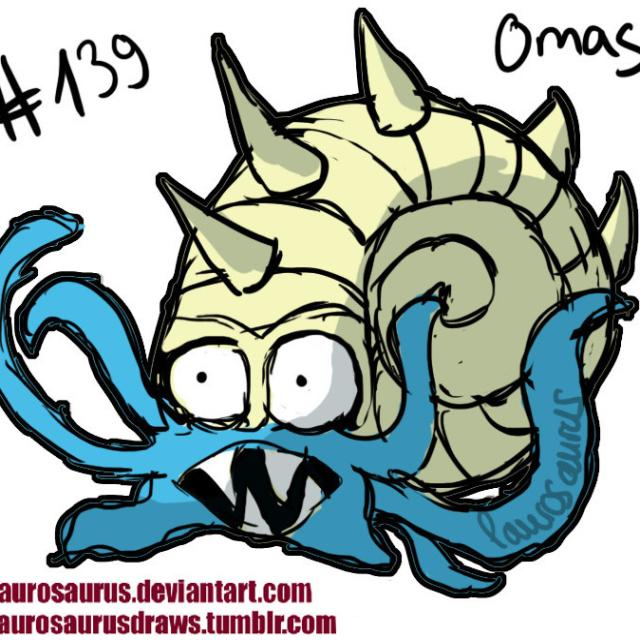Omastar: (72, 123, 589, 553)
